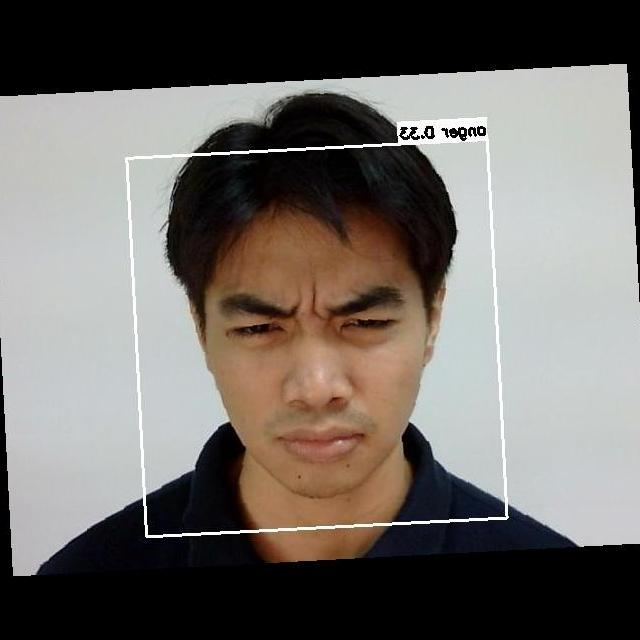Angry: (200, 260, 455, 492)
